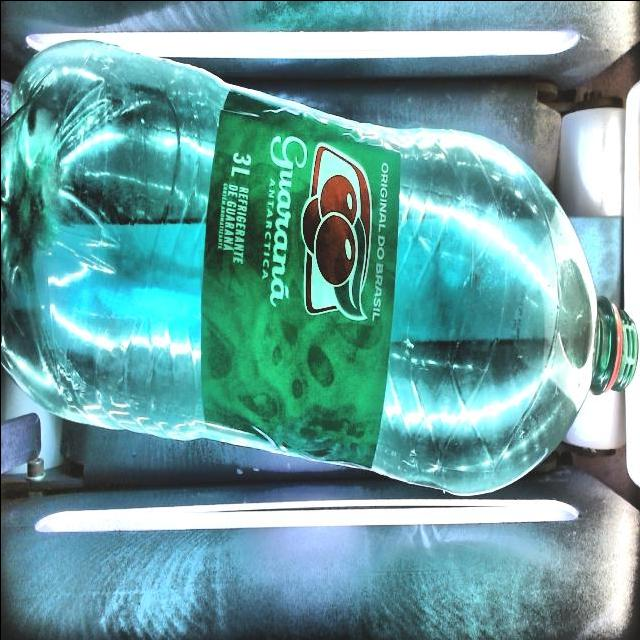bottom: (0, 30, 120, 434)
no_cap: (585, 284, 640, 416)
